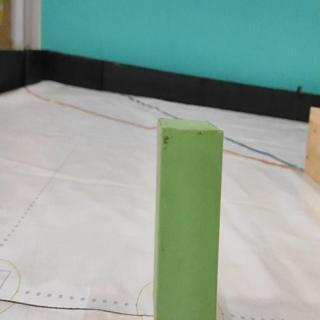greenbox: (155, 118, 224, 320)
